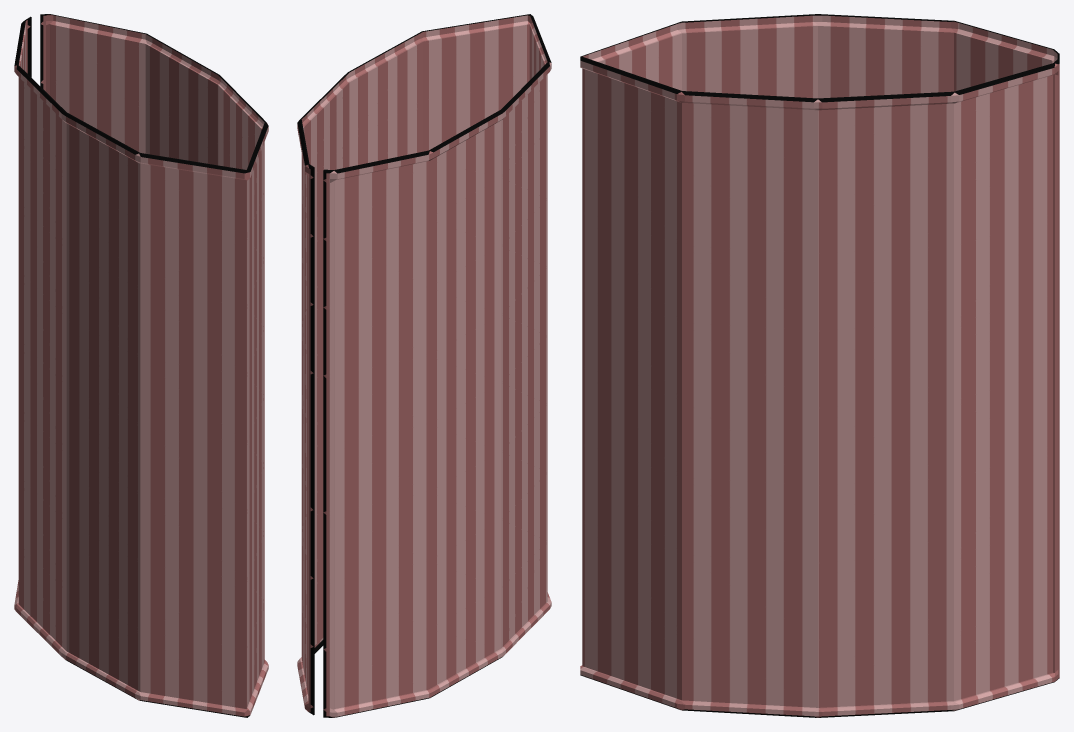
Rendered from itip.glb.
3 views of the same model, side by side, from view 1: azimuth 30°, elevation 25°; view 2: azimuth 150°, elevation 25°; view 3: azimuth 270°, elevation 25° (orthographic). The views are drawn at different scales.
Parts seen in each view (by area): view 1: Plane; view 2: Plane; view 3: Plane.
Part boxes in pixels (box(x1,y1,x2,y2)): Plane: box(14, 14, 268, 717); Plane: box(297, 14, 551, 717); Plane: box(580, 14, 1059, 717).
Size of the model in its own units: 0.8596 by 2.85 by 2.
Materials: 1 (1 with a texture image).
